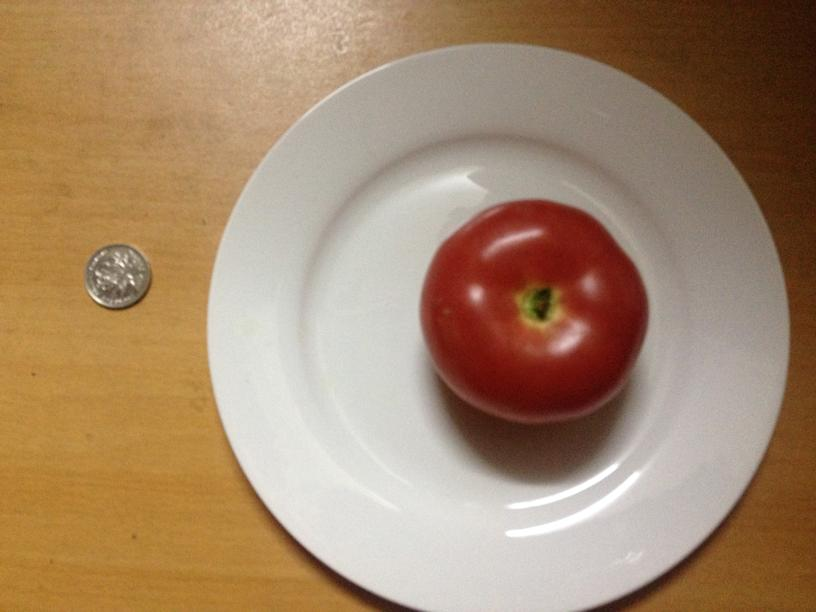coin: (83, 244, 151, 308)
tomato: (71, 239, 141, 309)
